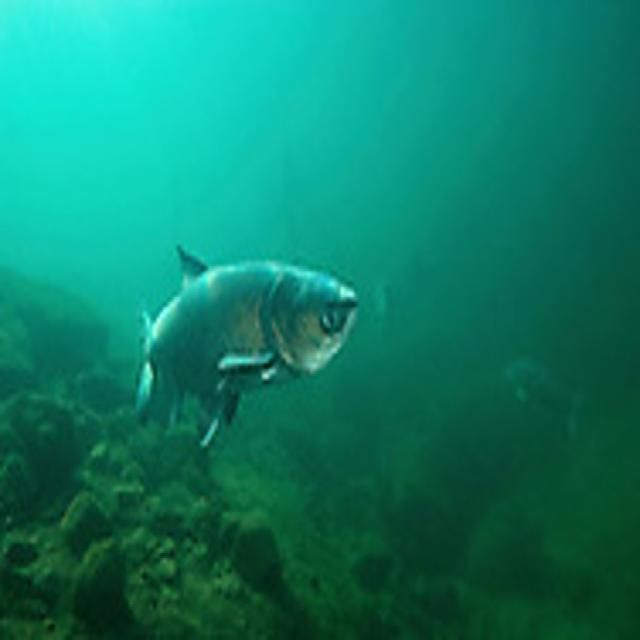Big-Head-Carp: (87, 187, 400, 502)
